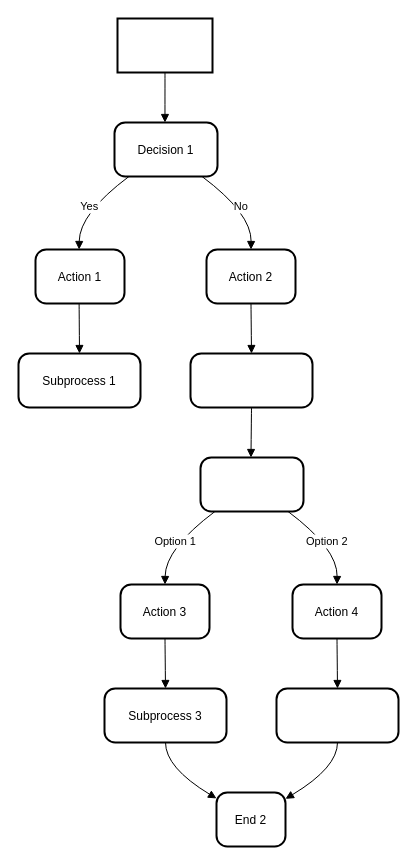
Some shapes in this 416 by 864 pixel diagram are drawn without their labels. Each missing label, with the centre of its shape:
"Decision 2" goes at [251,484].
"Start" goes at [164,45].
"Subprocess 2" goes at [251,380].
"Subprocess 4" goes at [337,715].
